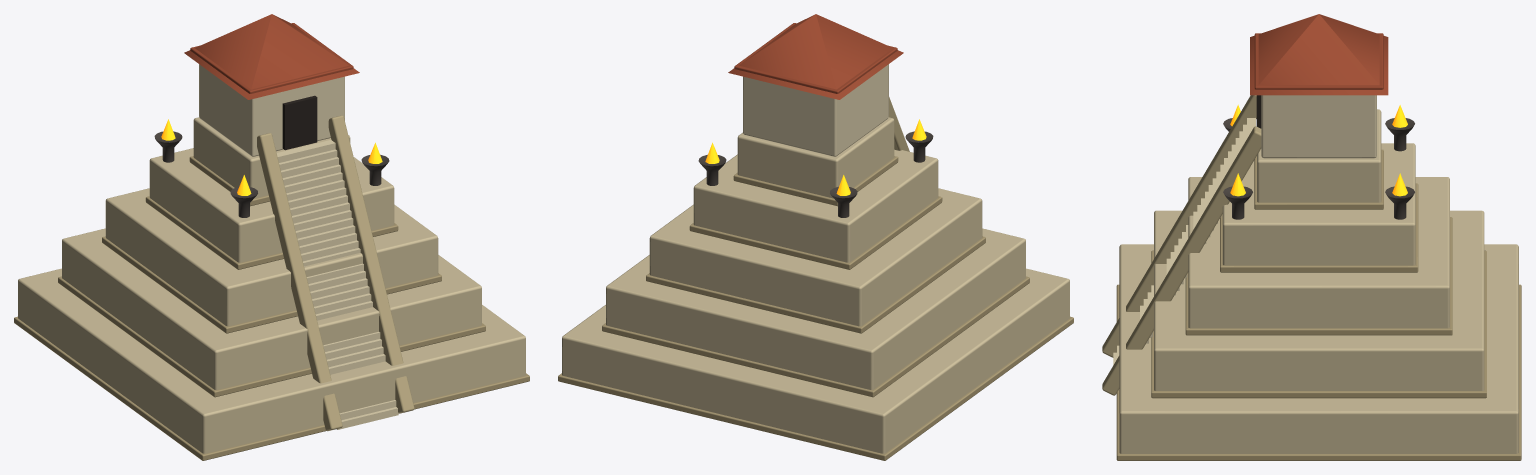
The model's file is original.glb.
3 views of the same model, side by side, from view 1: azimuth 30°, elevation 25°; view 2: azimuth 150°, elevation 25°; view 3: azimuth 270°, elevation 25° (orthographic). The views are drawn at different scales.
Visible parts, largest first — view 1: Pyramid tiers, Staircase, Stair balustrades, Tier trim, Temple roof, Temple, Temple door, Torch bowls, Flames; view 2: Pyramid tiers, Tier trim, Temple, Temple roof, Torch bowls, Flames; view 3: Pyramid tiers, Tier trim, Temple roof, Stair balustrades, Temple, Staircase, Torch bowls, Flames.
Part boxes in pixels (x1=…): Pyramid tiers: x1=18, y1=117, x2=525, y2=453; Staircase: x1=276, y1=140, x2=398, y2=429; Stair balustrades: x1=257, y1=115, x2=414, y2=431; Tier trim: x1=14, y1=156, x2=529, y2=460; Temple roof: x1=184, y1=14, x2=359, y2=99; Temple: x1=199, y1=64, x2=344, y2=156; Temple door: x1=282, y1=95, x2=317, y2=150; Torch bowls: x1=154, y1=131, x2=389, y2=217; Flames: x1=161, y1=119, x2=382, y2=195; Pyramid tiers: x1=562, y1=117, x2=1069, y2=453; Tier trim: x1=558, y1=156, x2=1073, y2=460; Temple: x1=743, y1=64, x2=888, y2=156; Temple roof: x1=728, y1=14, x2=903, y2=99; Torch bowls: x1=698, y1=131, x2=933, y2=217; Flames: x1=705, y1=119, x2=926, y2=195; Pyramid tiers: x1=1119, y1=109, x2=1518, y2=453; Tier trim: x1=1116, y1=149, x2=1521, y2=460; Temple roof: x1=1250, y1=14, x2=1388, y2=95; Stair balustrades: x1=1102, y1=95, x2=1261, y2=395; Temple: x1=1261, y1=95, x2=1376, y2=158; Staircase: x1=1113, y1=118, x2=1255, y2=364; Torch bowls: x1=1223, y1=118, x2=1414, y2=219; Flames: x1=1230, y1=104, x2=1407, y2=196.
Bounding box in the file's own units: 9.12 × 9 × 9.44.
